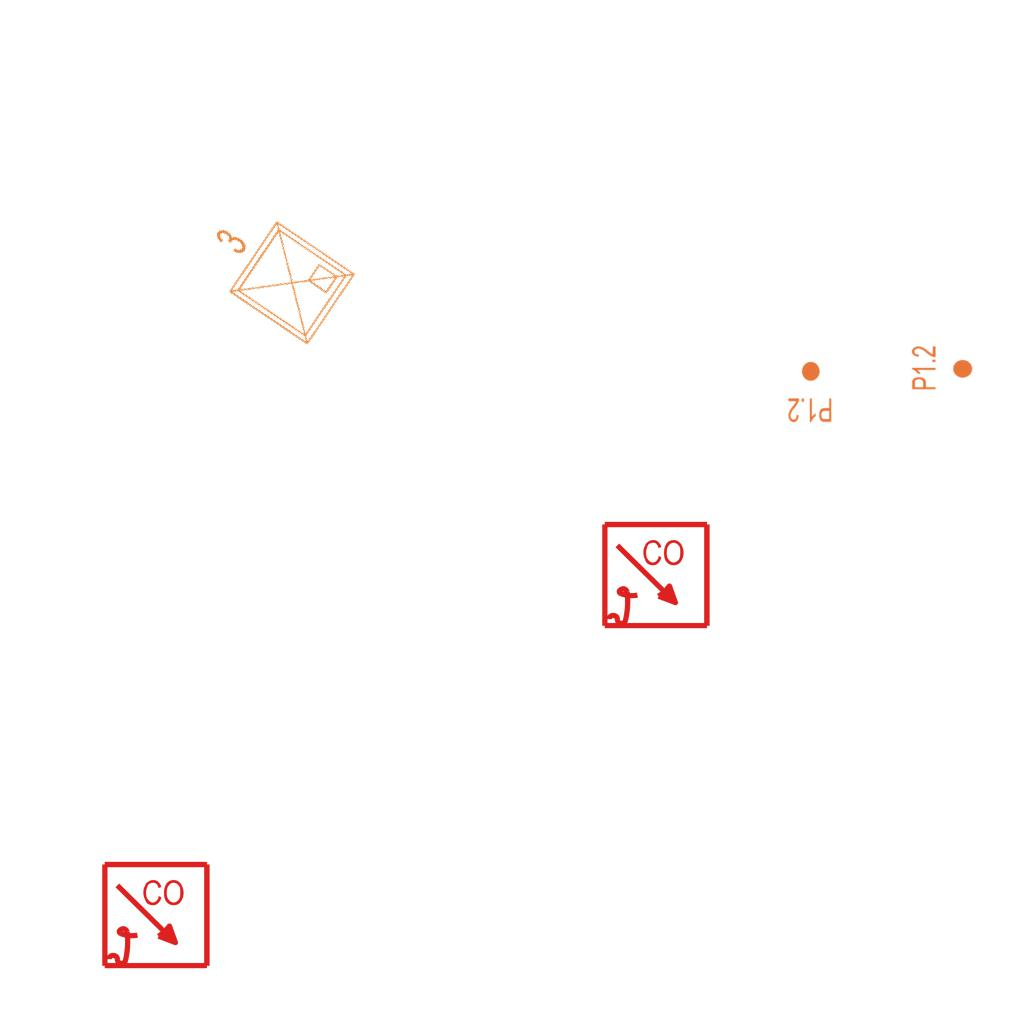Downlight_LED_Einbauleuchten_Flur: (787, 360, 833, 424), (910, 345, 974, 391)
Einbaudownlights_LED_Konferenzraeume: (182, 187, 366, 359)
ROA_Rauchmelder_optisch_mit_Signalgeber_(Sockelsirene): (600, 520, 713, 633), (100, 860, 213, 973)
